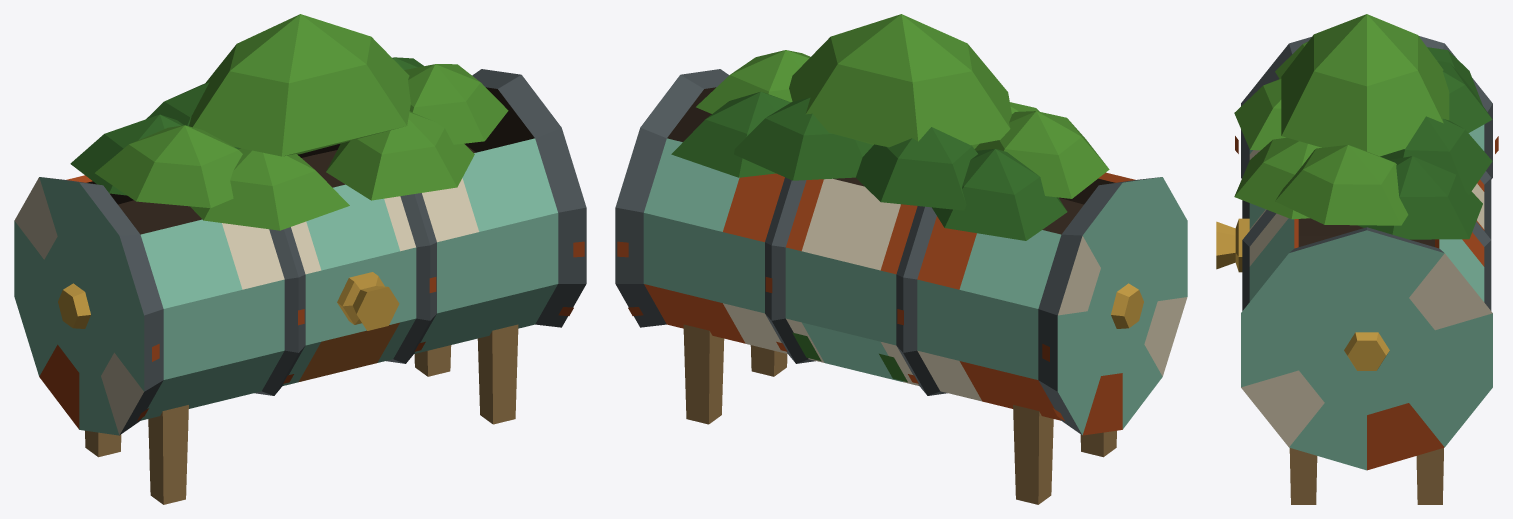
Rendered from cut-open-drum-planter-7c42e7.glb.
3 renders of one model, left to right at view 1: azimuth 30°, elevation 25°; view 2: azimuth 150°, elevation 25°; view 3: azimuth 270°, elevation 25°, orthographic. The views are drawn at different scales.
Visible parts, largest first — view 1: planter; view 2: planter; view 3: planter.
Part boxes in pixels (left/top/right/bottom): planter: left=14, top=14, right=586, bottom=504; planter: left=615, top=14, right=1187, bottom=504; planter: left=1216, top=14, right=1498, bottom=504.
Bounding box in the file's own units: 0.973 × 0.8381 × 0.5264.
